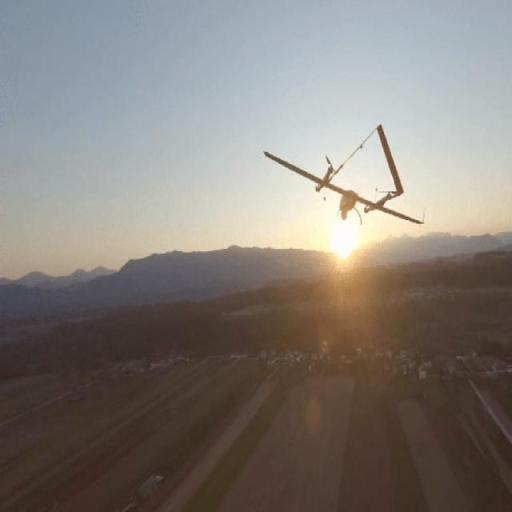uav: (255, 118, 430, 258)
